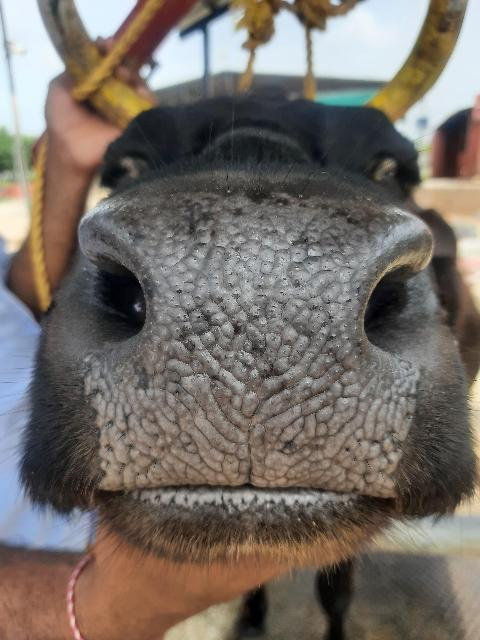Muzzle: (143, 198, 363, 502)
